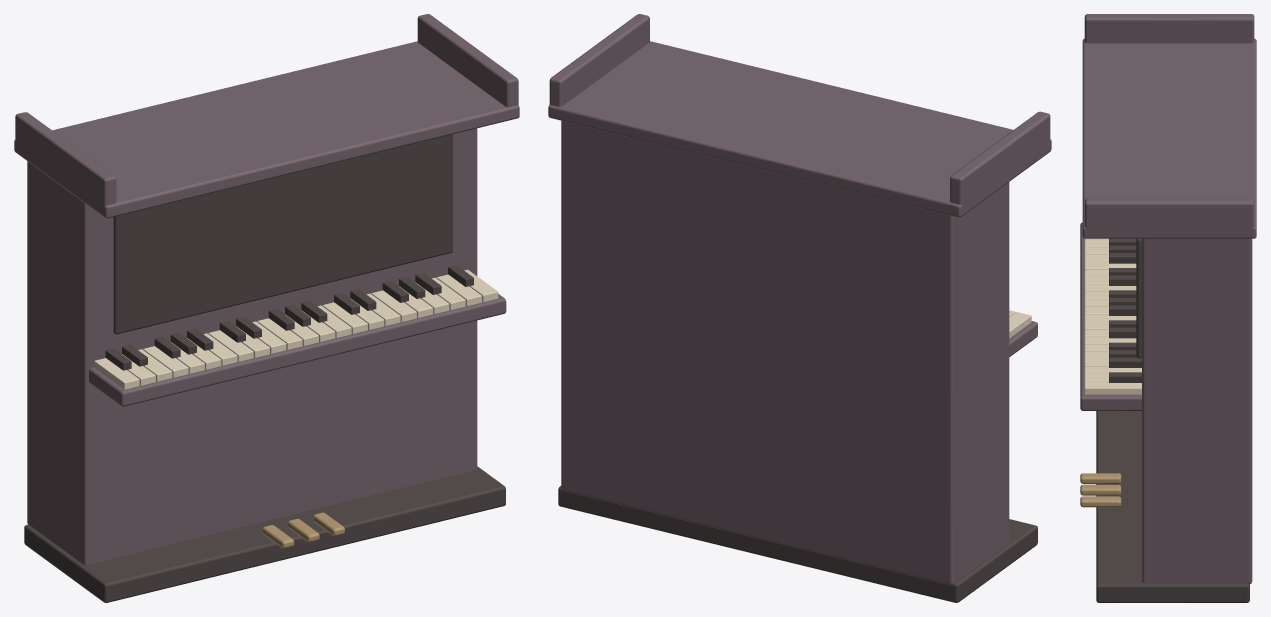
Rendered from piano.glb.
The picture shows the model from 3 angles, left to right: view 1: azimuth 30°, elevation 25°; view 2: azimuth 150°, elevation 25°; view 3: azimuth 270°, elevation 25°; orthographic projection. The views are drawn at different scales.
Parts seen in each view (by area): view 1: piano-cabinet, recessed-upper-panel, clear-piano-top, grounded-piano-plinth, projecting-keybed, crown-end--0-95, crown-end-0-95, ivory-key-0; view 2: piano-cabinet, clear-piano-top, grounded-piano-plinth, crown-end--0-95, crown-end-0-95; view 3: piano-cabinet, clear-piano-top, grounded-piano-plinth, crown-end-0-95, crown-end--0-95, projecting-keybed, ivory-key-22, recessed-upper-panel, pedal-0, pedal-0-12, pedal--0-12, ivory-key-20 (+10 smaller).
Part boxes in pixels (box(x1,y1,x2,y2)): piano-cabinet: box(27, 128, 477, 565); recessed-upper-panel: box(113, 134, 452, 334); clear-piano-top: box(14, 41, 519, 218); grounded-piano-plinth: box(24, 466, 505, 602); projecting-keybed: box(89, 294, 506, 406); crown-end--0-95: box(15, 112, 116, 207); crown-end-0-95: box(417, 14, 518, 107); ivory-key-0: box(94, 358, 139, 389); piano-cabinet: box(561, 120, 1009, 585); clear-piano-top: box(548, 41, 1051, 217); grounded-piano-plinth: box(558, 486, 1037, 602); crown-end--0-95: box(950, 111, 1050, 206); crown-end-0-95: box(549, 14, 649, 106); piano-cabinet: box(1142, 238, 1252, 584); clear-piano-top: box(1082, 38, 1256, 238); grounded-piano-plinth: box(1096, 411, 1249, 602); crown-end-0-95: box(1084, 198, 1254, 229); crown-end--0-95: box(1084, 14, 1254, 43); projecting-keybed: box(1080, 222, 1141, 410); ivory-key-22: box(1084, 381, 1141, 394); recessed-upper-panel: box(1136, 238, 1141, 358); pedal-0: box(1080, 484, 1121, 495); pedal-0-12: box(1080, 496, 1121, 507); pedal--0-12: box(1080, 473, 1121, 483); ivory-key-20: box(1084, 366, 1141, 374).
Bounding box in the file's own units: 1.96 × 1.94 × 0.77.
